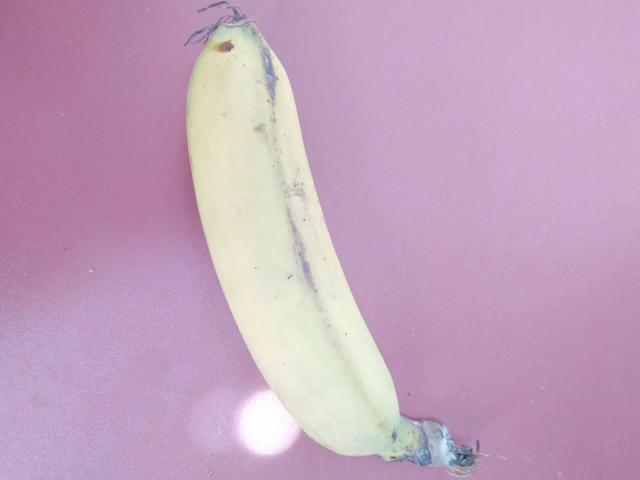ripe: (178, 25, 444, 479)
